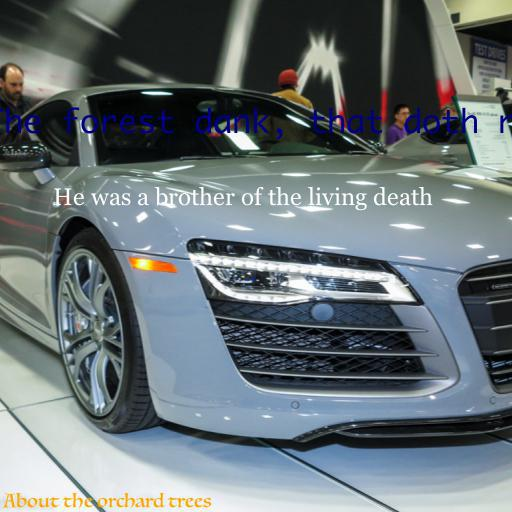Georgia: (53, 186, 433, 211)
Luminari: (4, 492, 212, 509)
Monaco: (0, 107, 512, 140)
